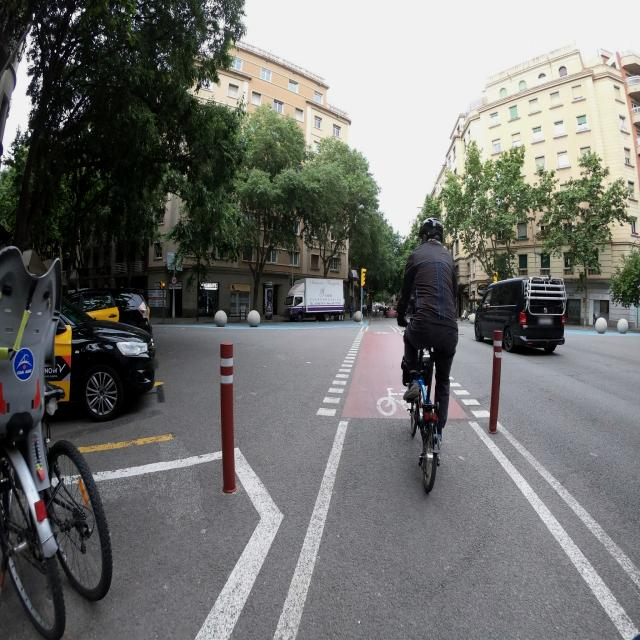bike: (0, 339, 114, 640), (396, 306, 458, 496)
car: (42, 298, 156, 422), (474, 276, 566, 354), (65, 285, 152, 334)
